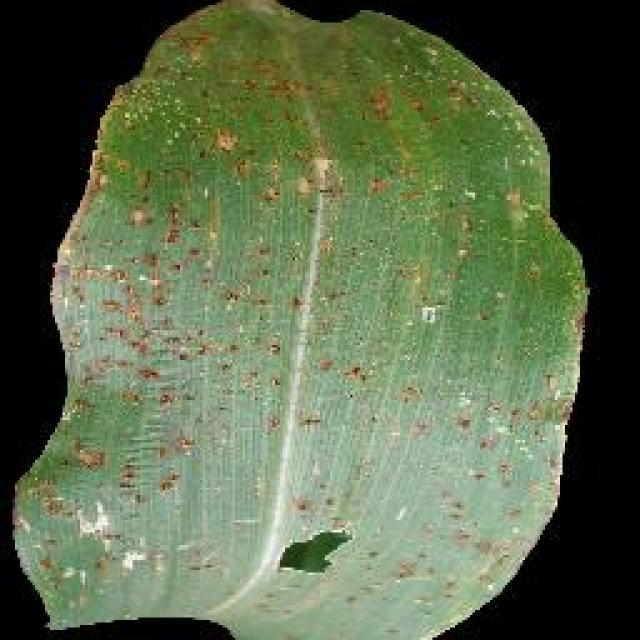Corn Common Rust: (116, 121, 496, 622)
